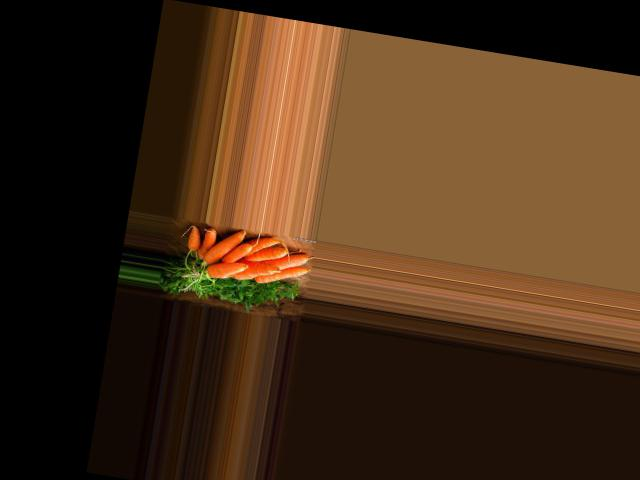carrot: (198, 225, 246, 273)
